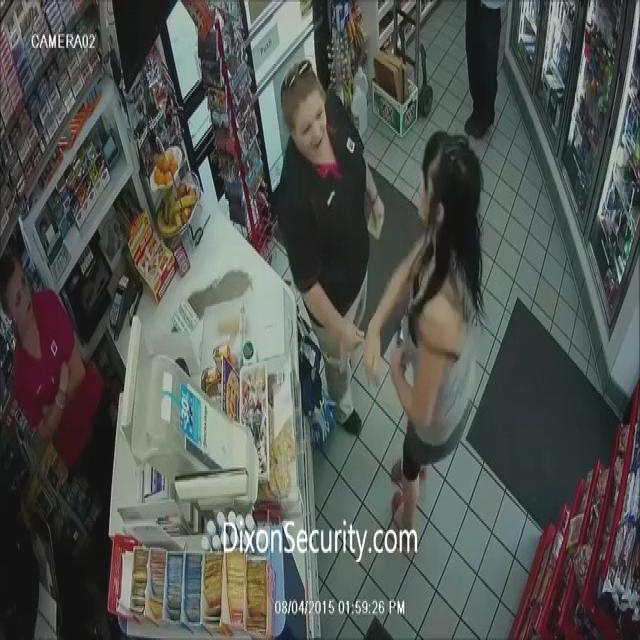fight: (276, 51, 489, 539)
